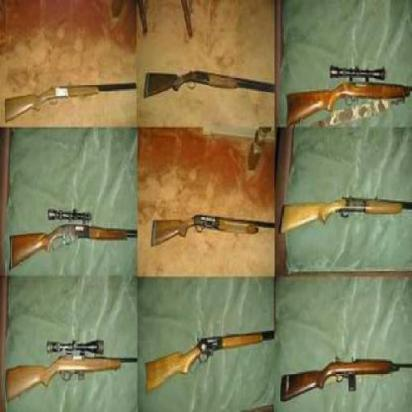Gun: (139, 302, 277, 400), (277, 159, 411, 255), (288, 48, 411, 131), (0, 199, 140, 271), (275, 337, 409, 411), (3, 334, 132, 394), (6, 66, 132, 125), (147, 63, 272, 114), (147, 212, 272, 259)
